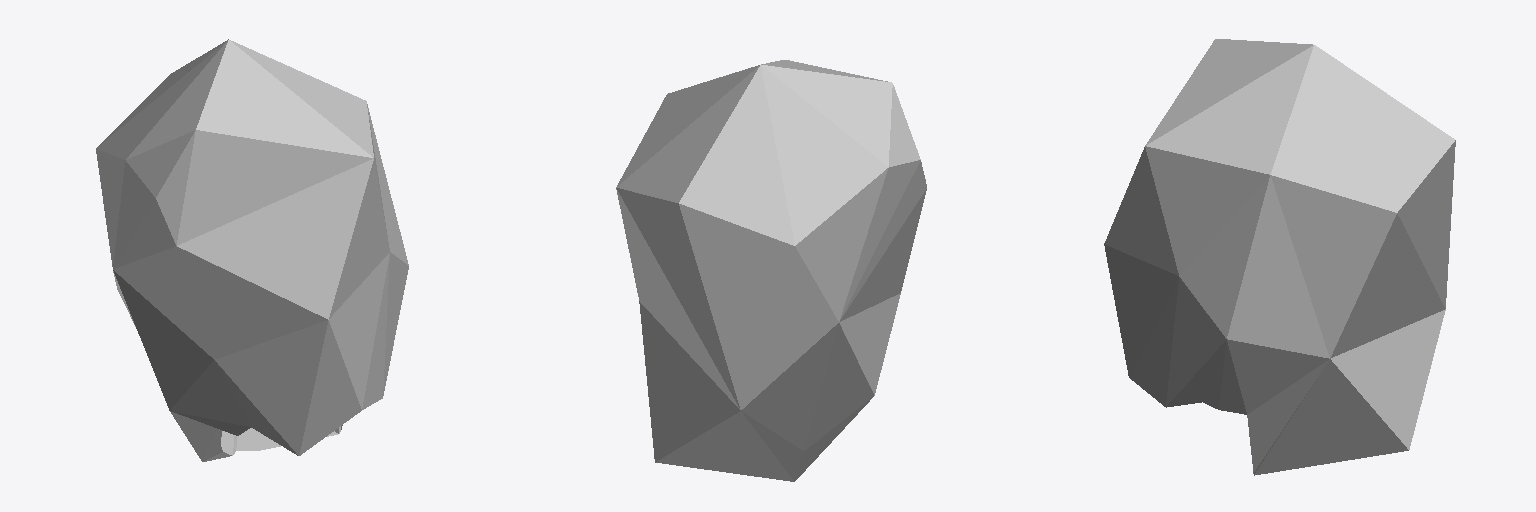
Rendered from head.obj.
3 renders of one model, left to right at view 1: azimuth 30°, elevation 25°; view 2: azimuth 150°, elevation 25°; view 3: azimuth 270°, elevation 25°, orthographic.
Parts seen in each view (by area): view 1: head.001_Superhot_Enemy_Stl.022; view 2: head.001_Superhot_Enemy_Stl.022; view 3: head.001_Superhot_Enemy_Stl.022.
Boxes of the visible parts, box(x1,y1,x2,y2) form: head.001_Superhot_Enemy_Stl.022: box(96, 39, 408, 461); head.001_Superhot_Enemy_Stl.022: box(616, 60, 926, 481); head.001_Superhot_Enemy_Stl.022: box(1104, 39, 1455, 475).
Bounding box in the file's own units: 15.19 × 23.7 × 18.29.